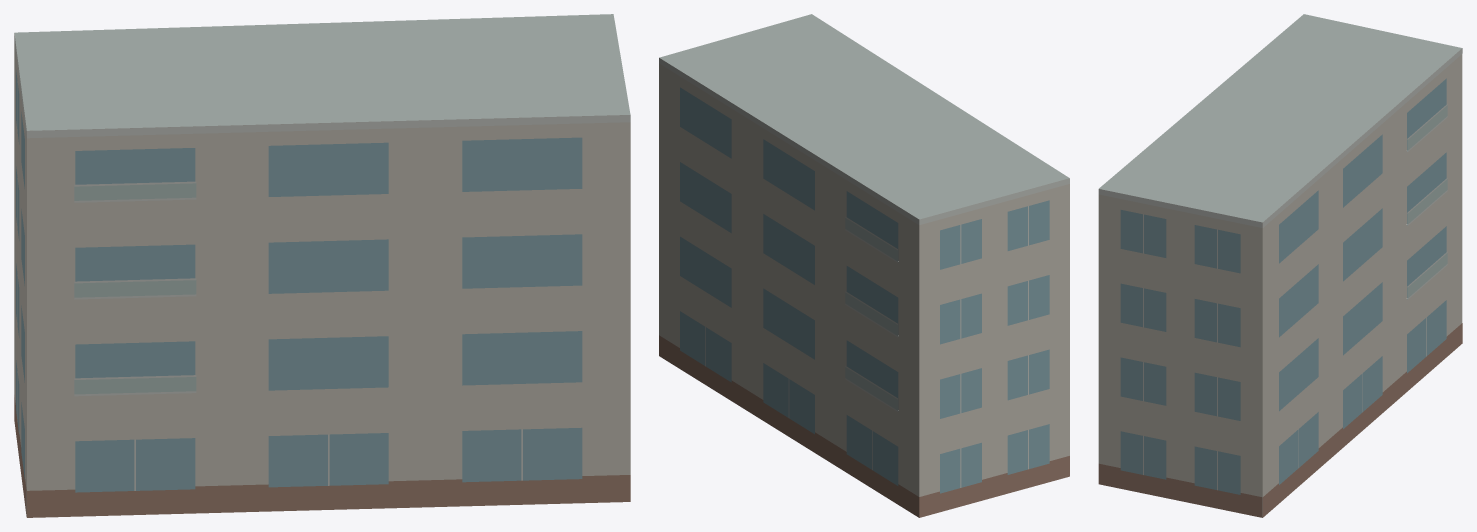
The model's file is survey-upis-32891802.glb.
The picture shows the model from 3 angles, left to right: view 1: azimuth 30°, elevation 25°; view 2: azimuth 150°, elevation 25°; view 3: azimuth 270°, elevation 25°; orthographic projection. The views are drawn at different scales.
Visible parts, largest first — view 1: survey-upis-32891802.tmp; view 2: survey-upis-32891802.tmp; view 3: survey-upis-32891802.tmp.
Part boxes in pixels (x1,y1,x2,y2): survey-upis-32891802.tmp: (14, 14, 630, 517); survey-upis-32891802.tmp: (659, 14, 1069, 517); survey-upis-32891802.tmp: (1098, 14, 1462, 517).
Bounding box in the file's own units: 19.38 × 12.8 × 14.3.
